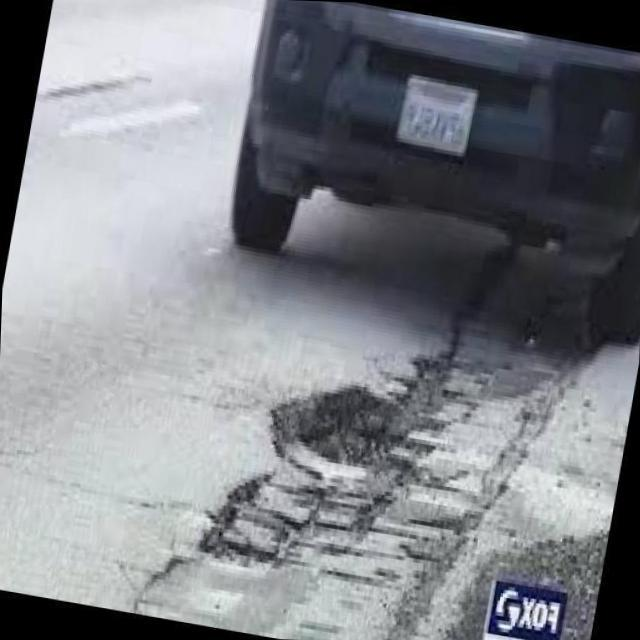pothole: (194, 366, 408, 573)
